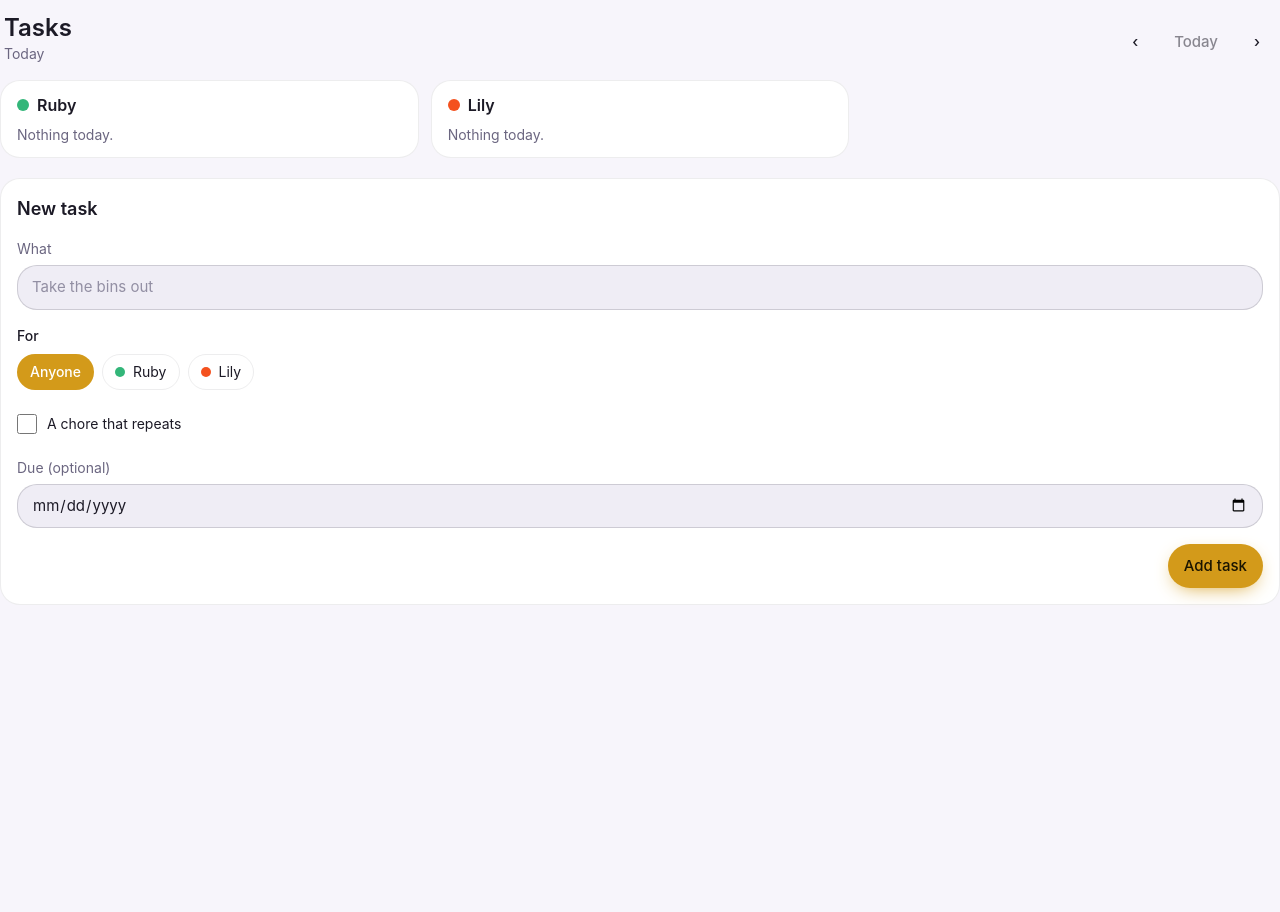
it: the tasks board › a chore with no days is not sent
Type "Dishes" into the field labelled "What" at (640, 287), box 17,265 -> 1263,310
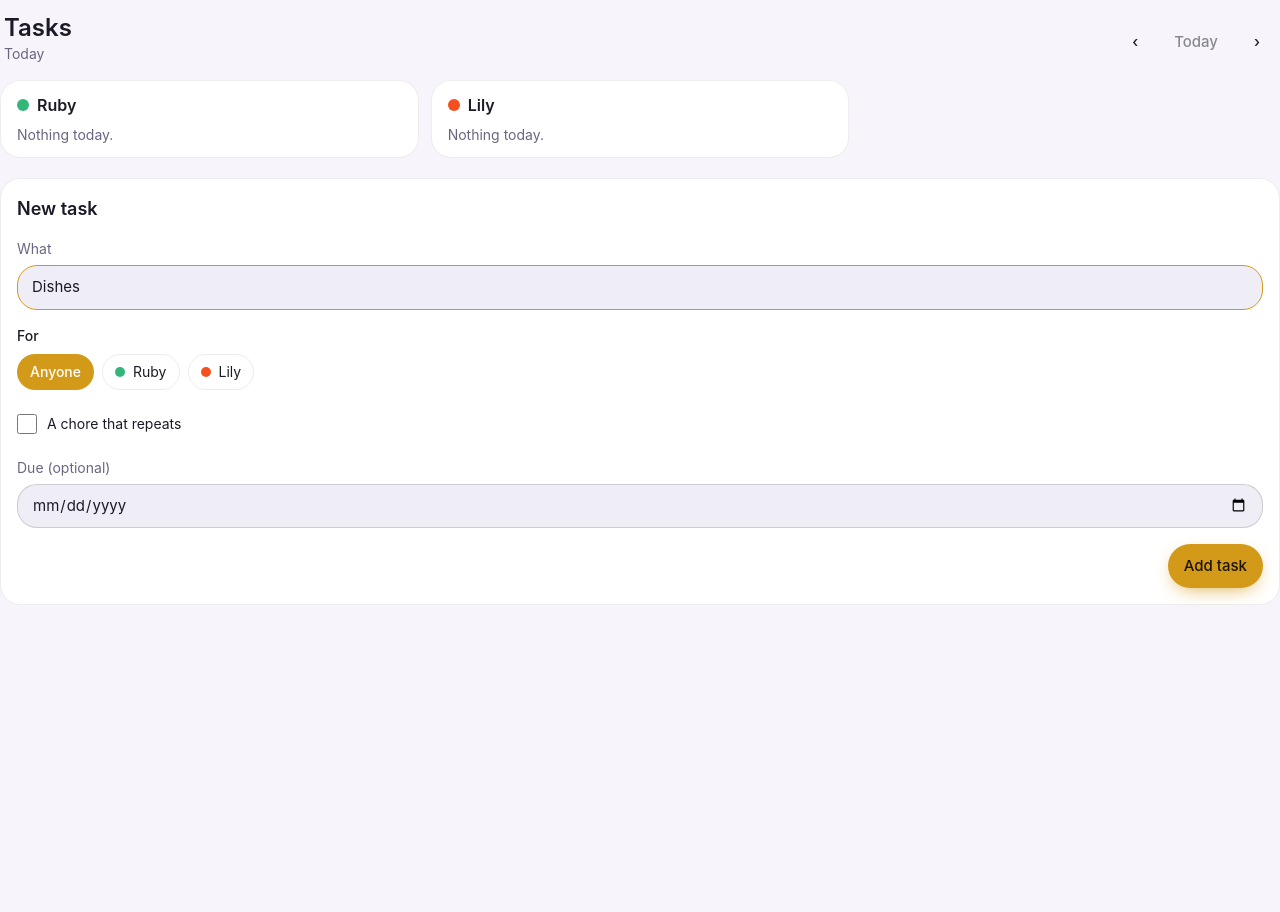
Click the checkbox labelled "A chore that repeats" at (27, 424), box 17,414 -> 37,434
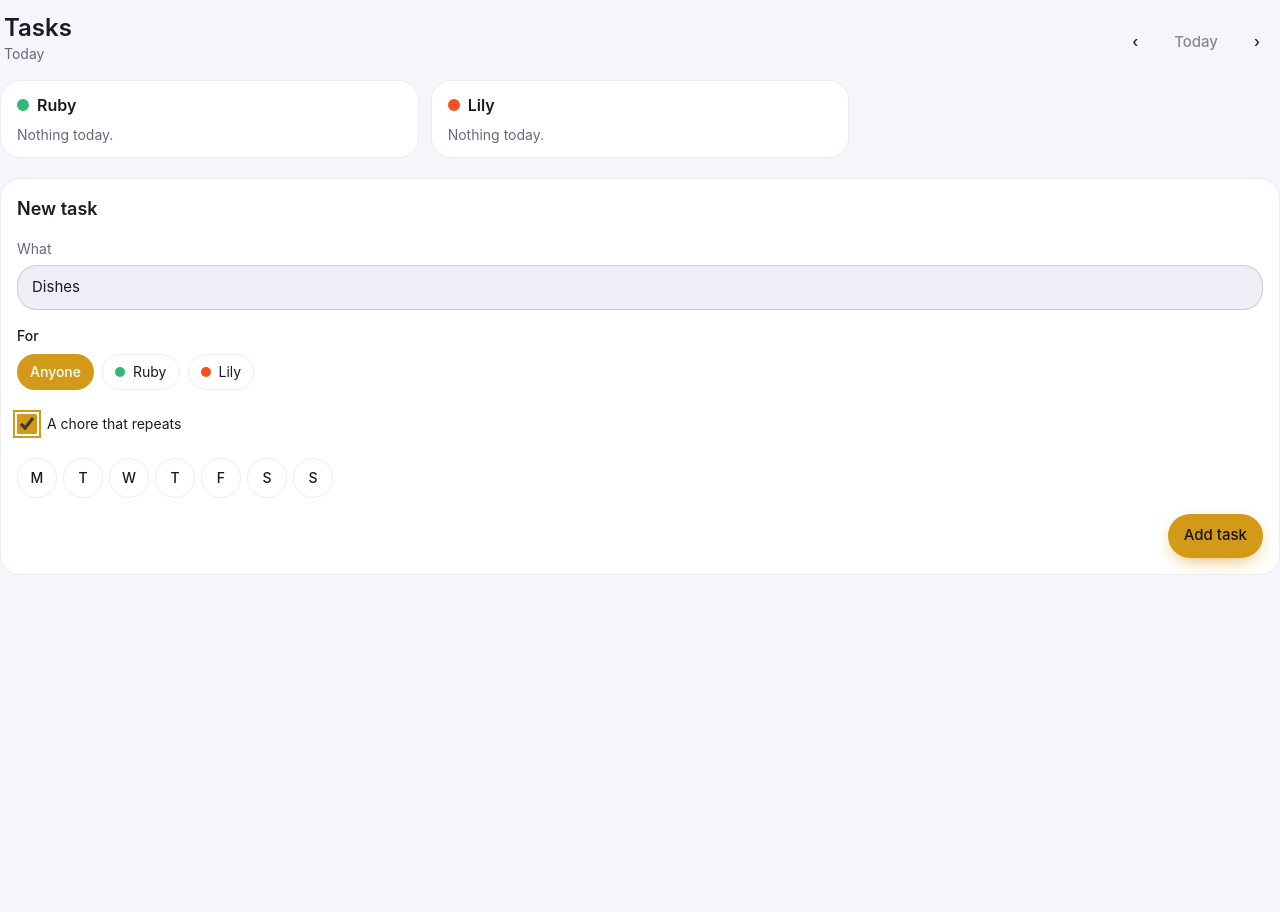
Click the button "Add task" at (1215, 536), box 1168,514 -> 1263,558
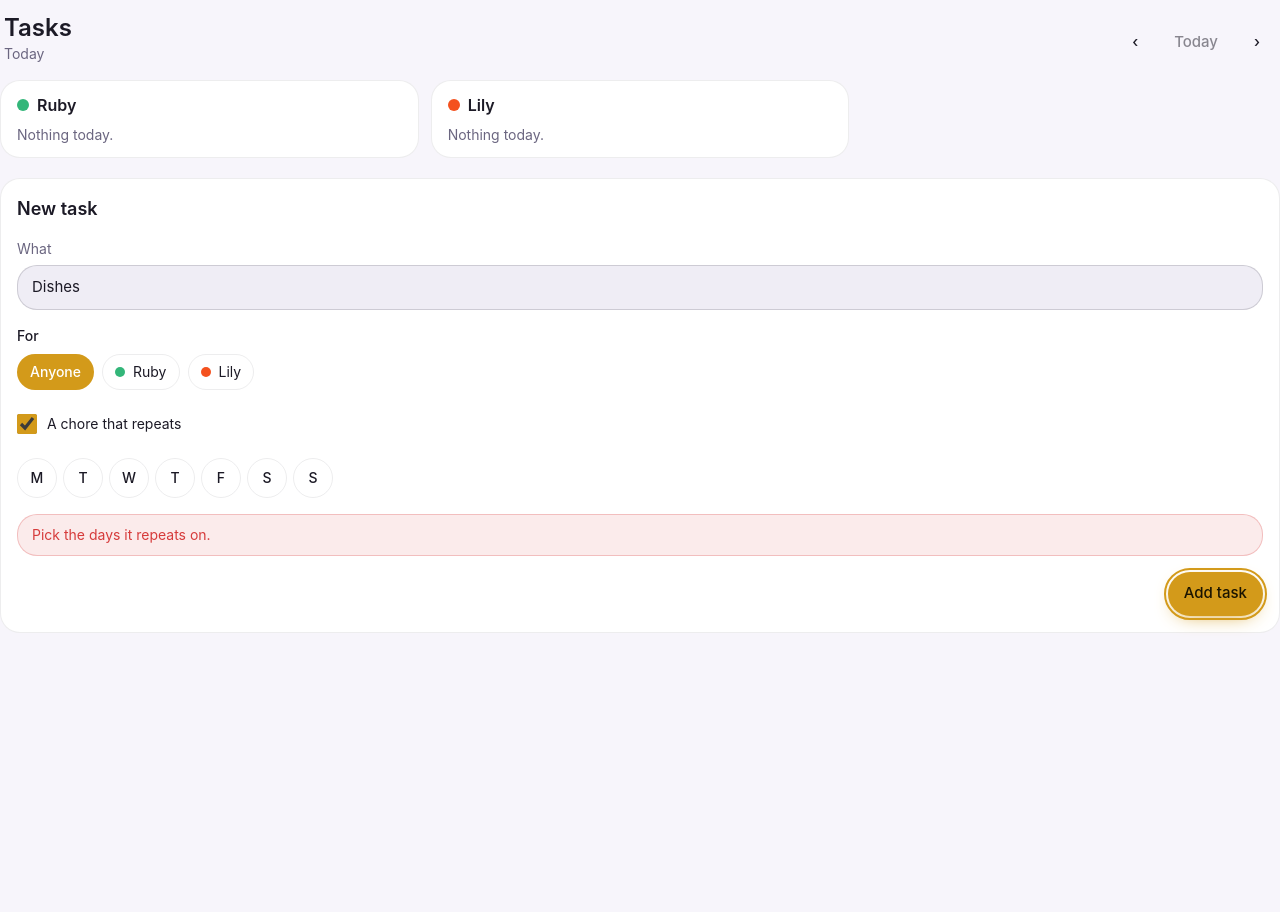
Now the text "Pick the days it repeats on." is shown, box 17,514 -> 1263,556
